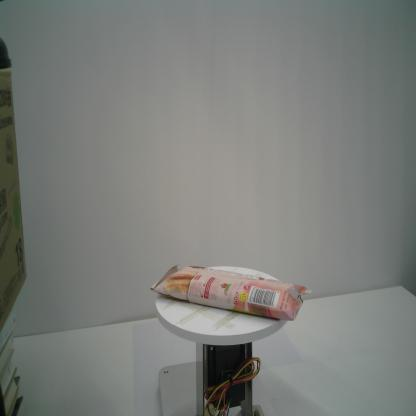Dessert: (146, 260, 309, 325)
